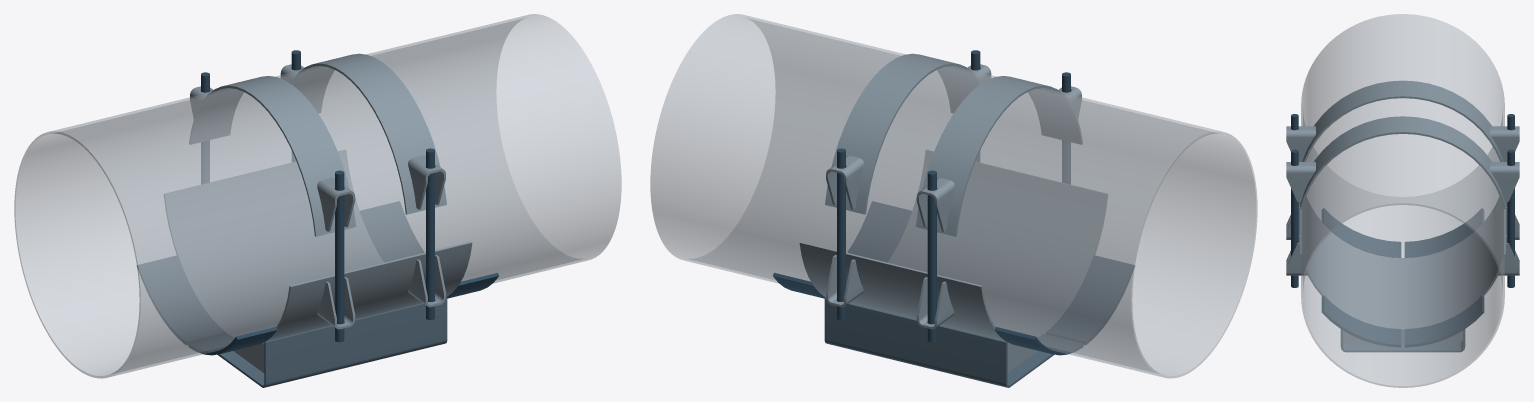
Rendered from TS-671.00.00-15-opora-dn820-H100.glb.
3 views of the same model, side by side, from view 1: azimuth 30°, elevation 25°; view 2: azimuth 150°, elevation 25°; view 3: azimuth 270°, elevation 25° (orthographic). The views are drawn at different scales.
Parts seen in each view (by area): view 1: truba, podushka_0, skoba_1, bugel_podushka_-1_0, bugel_podushka_1_0, upor_-1_1, upor_1_1, shpilka_-1_-1, shpilka_1_-1, upor_-1_-1, bugel_ushko_-1_2, bugel_ushko_1_2 (+5 smaller); view 2: truba, podushka_0, skoba_1, bugel_podushka_-1_0, bugel_podushka_1_0, upor_-1_-1, upor_1_-1, shpilka_-1_1, shpilka_1_1, upor_-1_1, bugel_ushko_-1_1, bugel_ushko_1_1 (+5 smaller); view 3: truba, podushka_0, bugel_podushka_1_0, bugel_podushka_-1_0, upor_1_1, upor_1_-1, upor_-1_1, upor_-1_-1, skoba_1, bugel_ushko_1_1, bugel_ushko_1_2, bugel_ushko_-1_1 (+6 smaller).
Part boxes in pixels (left/top/right/bottom): truba: left=14, top=14, right=621, bottom=378; podushka_0: left=164, top=150, right=472, bottom=342; skoba_1: left=217, top=297, right=447, bottom=387; bugel_podushka_-1_0: left=189, top=76, right=356, bottom=236; bugel_podushka_1_0: left=291, top=53, right=446, bottom=214; upor_-1_1: left=137, top=255, right=225, bottom=344; upor_1_1: left=360, top=201, right=423, bottom=261; shpilka_-1_-1: left=335, top=170, right=344, bottom=342; shpilka_1_-1: left=426, top=148, right=434, bottom=319; upor_-1_-1: left=188, top=327, right=277, bottom=355; bugel_ushko_-1_2: left=317, top=177, right=355, bottom=231; bugel_ushko_1_2: left=408, top=155, right=445, bottom=209; truba: left=650, top=14, right=1257, bottom=378; podushka_0: left=799, top=150, right=1107, bottom=342; skoba_1: left=824, top=297, right=1054, bottom=387; bugel_podushka_-1_0: left=915, top=76, right=1082, bottom=236; bugel_podushka_1_0: left=825, top=53, right=980, bottom=214; upor_-1_-1: left=1046, top=255, right=1134, bottom=344; upor_1_-1: left=848, top=201, right=911, bottom=261; shpilka_-1_1: left=927, top=170, right=936, bottom=342; shpilka_1_1: left=837, top=148, right=845, bottom=319; upor_-1_1: left=994, top=327, right=1083, bottom=355; bugel_ushko_-1_1: left=916, top=177, right=954, bottom=231; bugel_ushko_1_1: left=826, top=155, right=863, bottom=209; truba: left=1301, top=14, right=1504, bottom=387; podushka_0: left=1300, top=197, right=1505, bottom=331; bugel_podushka_1_0: left=1300, top=116, right=1505, bottom=209; bugel_podushka_-1_0: left=1302, top=80, right=1503, bottom=161; upor_1_1: left=1404, top=295, right=1484, bottom=347; upor_1_-1: left=1321, top=295, right=1401, bottom=347; upor_-1_1: left=1404, top=208, right=1483, bottom=257; upor_-1_-1: left=1322, top=208, right=1401, bottom=257; skoba_1: left=1340, top=329, right=1465, bottom=352; bugel_ushko_1_1: left=1490, top=162, right=1519, bottom=201; bugel_ushko_1_2: left=1286, top=162, right=1315, bottom=201; bugel_ushko_-1_1: left=1490, top=126, right=1519, bottom=161.
Bounding box in the file's own units: 1800 × 933 × 939.
